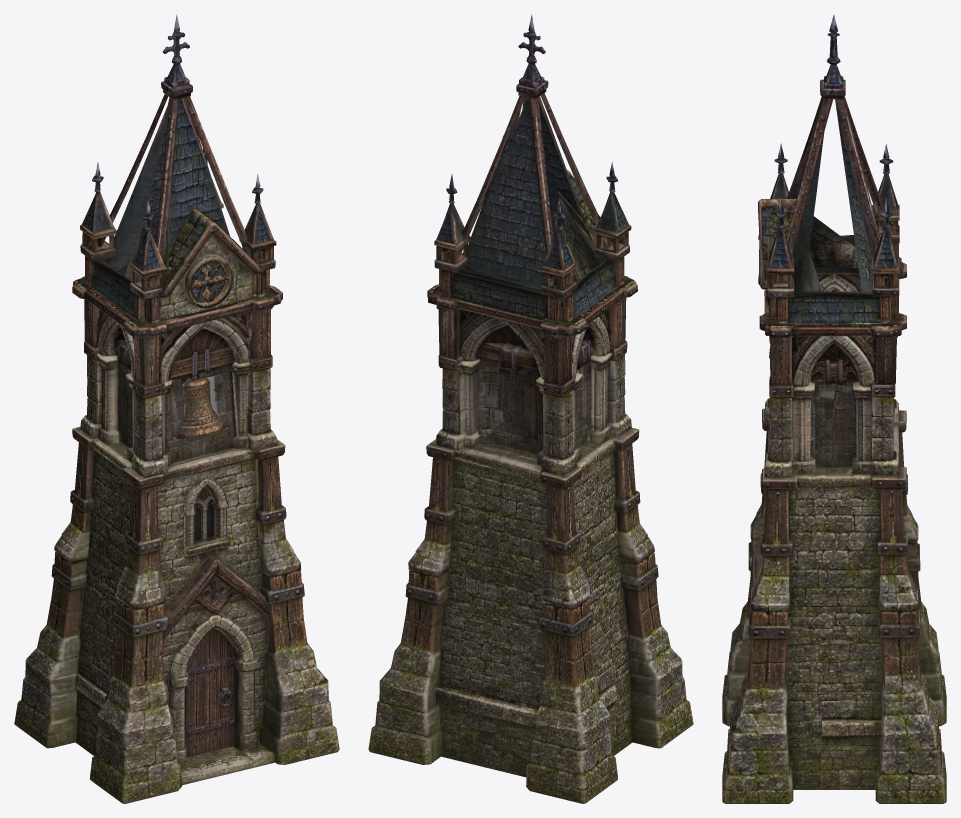
File: landmark_belltower.glb
The picture shows the model from 3 angles, left to right: view 1: azimuth 30°, elevation 25°; view 2: azimuth 150°, elevation 25°; view 3: azimuth 270°, elevation 25°; orthographic projection.
Parts seen in each view (by area): view 1: tripo_node_2bcc8a1f-3c86-41dc-9a9d-49111541b576; view 2: tripo_node_2bcc8a1f-3c86-41dc-9a9d-49111541b576; view 3: tripo_node_2bcc8a1f-3c86-41dc-9a9d-49111541b576.
Boxes of the visible parts, left/top/right/bottom form: tripo_node_2bcc8a1f-3c86-41dc-9a9d-49111541b576: left=14, top=14, right=339, bottom=803; tripo_node_2bcc8a1f-3c86-41dc-9a9d-49111541b576: left=368, top=14, right=693, bottom=803; tripo_node_2bcc8a1f-3c86-41dc-9a9d-49111541b576: left=722, top=14, right=946, bottom=803.
Bounding box in the file's own units: 0.3149 × 0.9995 × 0.2759.
1 material, 1 textured.
